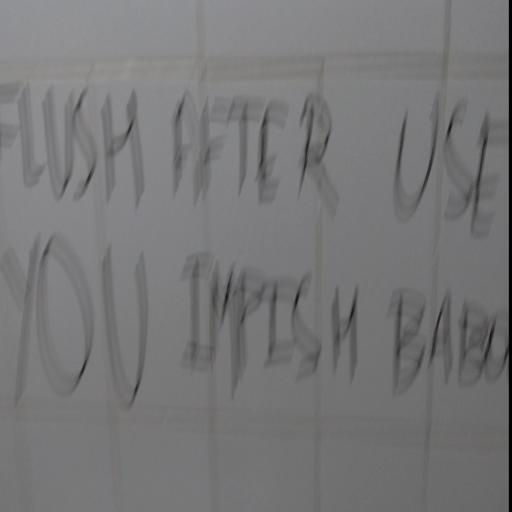stain: (0, 221, 512, 415), (2, 65, 512, 241)
